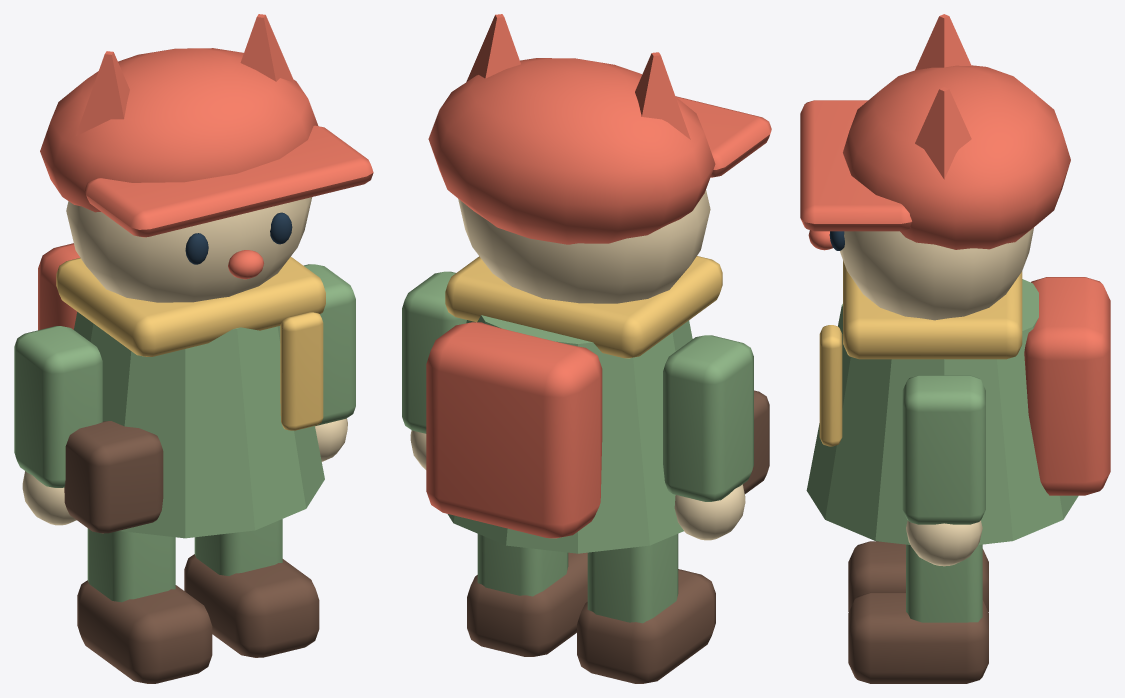
The model's file is fern.glb.
The picture shows the model from 3 angles, left to right: view 1: azimuth 30°, elevation 25°; view 2: azimuth 150°, elevation 25°; view 3: azimuth 270°, elevation 25°; orthographic projection. The views are drawn at different scales.
Parts seen in each view (by area): view 1: Fern_Coat, Fern_Cap, Fern_Face, Fern_CapBrim, Fern_Scarf, Fern_Arm_L_mesh, Fern_Boot_L, Fern_Boot_R, Fern_Satchel, Fern_Leg_L_mesh, Fern_ScarfTail, Fern_Arm_R_mesh (+9 smaller); view 2: Fern_Cap, Fern_FieldPack, Fern_Coat, Fern_Face, Fern_Arm_L_mesh, Fern_Scarf, Fern_Boot_L, Fern_Boot_R, Fern_Leg_L_mesh, Fern_Arm_R_mesh, Fern_Leg_R_mesh, Fern_CapBrim (+4 smaller); view 3: Fern_Cap, Fern_Coat, Fern_FieldPack, Fern_Arm_R_mesh, Fern_Face, Fern_Boot_R, Fern_Scarf, Fern_CapBrim, Fern_Leg_R_mesh, Fern_Boot_L, Fern_ScarfTail, Fern_CapEar.001 (+2 smaller).
Part boxes in pixels (box(x1,y1,x2,y2)): Fern_Coat: box(74, 312, 324, 538); Fern_Cap: box(40, 48, 318, 212); Fern_Face: box(66, 197, 312, 302); Fern_CapBrim: box(84, 125, 373, 237); Fern_Scarf: box(56, 256, 325, 356); Fern_Arm_L_mesh: box(14, 326, 102, 487); Fern_Boot_L: box(77, 580, 212, 683); Fern_Boot_R: box(184, 554, 319, 657); Fern_Satchel: box(64, 421, 163, 533); Fern_Leg_L_mesh: box(87, 528, 175, 602); Fern_ScarfTail: box(280, 312, 323, 430); Fern_Arm_R_mesh: box(304, 264, 355, 426); Fern_Cap: box(428, 58, 715, 244); Fern_FieldPack: box(426, 322, 602, 538); Fern_Coat: box(447, 315, 692, 553); Fern_Face: box(458, 190, 710, 303); Fern_Arm_L_mesh: box(663, 335, 753, 501); Fern_Scarf: box(445, 256, 722, 358); Fern_Boot_L: box(577, 569, 715, 683); Fern_Boot_R: box(467, 552, 587, 656); Fern_Leg_L_mesh: box(587, 534, 678, 623); Fern_Arm_R_mesh: box(402, 271, 466, 433); Fern_Leg_R_mesh: box(477, 534, 568, 596); Fern_CapBrim: box(675, 96, 771, 177); Fern_Cap: box(843, 65, 1070, 249); Fern_Coat: box(806, 279, 1078, 544); Fern_FieldPack: box(1024, 277, 1110, 495); Fern_Arm_R_mesh: box(902, 375, 985, 524); Fern_Face: box(840, 227, 1033, 320); Fern_Boot_R: box(848, 592, 988, 683); Fern_Scarf: box(843, 260, 1022, 359); Fern_CapBrim: box(800, 100, 912, 231); Fern_Leg_R_mesh: box(906, 544, 982, 622); Fern_Boot_L: box(848, 541, 988, 611); Fern_ScarfTail: box(819, 325, 842, 446); Fern_CapEar.001: box(915, 87, 971, 179).
Bounding box in the file's own units: 0.5463 × 1 × 0.4732.
